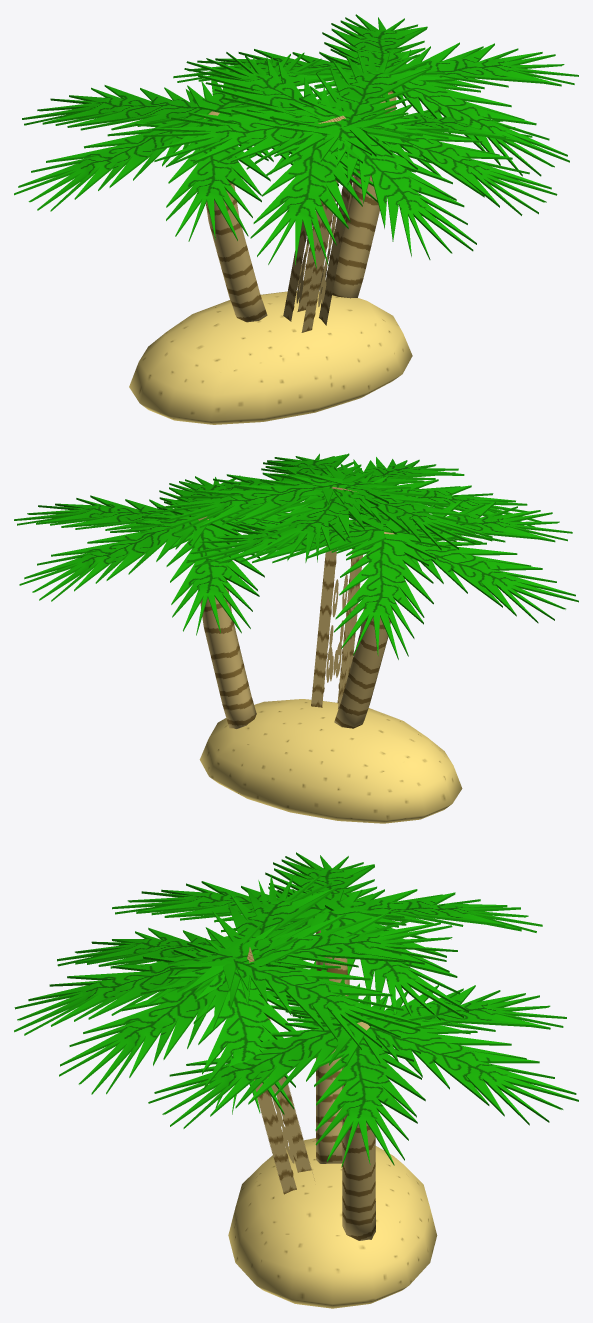
File: PalmTreeIsland2.FBX
3 renders of one model, top to bottom at view 1: azimuth 30°, elevation 25°; view 2: azimuth 150°, elevation 25°; view 3: azimuth 270°, elevation 25°, orthographic. The views are drawn at different scales.
Visible parts, largest first — view 1: Island, Palm Leaf017 (×2), Palm Leaf022, Palm Leaf020, Palm Leaf019, Palm Leaf021, Palm Leaf029, Palm Leaf023, Palm Leaf026, Palm Leaf024, Tree004, Palm Leaf028 (+7 smaller); view 2: Island, Palm Leaf017 (×2), Palm Leaf024, Palm Leaf031, Palm Leaf023, Palm Leaf032, Palm Leaf025, Tree004, Tree006, Palm Leaf019, Palm Leaf026, Palm Leaf028 (+7 smaller); view 3: Island, Palm Leaf017 (×2), Palm Leaf031, Palm Leaf021, Palm Leaf029, Palm Leaf028, Palm Leaf022, Palm Leaf018, Palm Leaf025, Palm Leaf019, Palm Leaf024, Palm Leaf032 (+7 smaller).
Boxes of the visible parts, bbox=[...] form: Island: bbox=[129, 290, 412, 424]; Palm Leaf017 (×2): bbox=[184, 48, 430, 135]; Palm Leaf022: bbox=[320, 125, 476, 259]; Palm Leaf020: bbox=[250, 127, 371, 268]; Palm Leaf019: bbox=[143, 98, 348, 167]; Palm Leaf021: bbox=[350, 112, 557, 215]; Palm Leaf029: bbox=[385, 69, 569, 176]; Palm Leaf023: bbox=[14, 120, 199, 211]; Palm Leaf026: bbox=[162, 116, 270, 241]; Palm Leaf024: bbox=[22, 85, 211, 132]; Tree004: bbox=[283, 115, 353, 332]; Palm Leaf028: bbox=[391, 42, 578, 89]; Island: bbox=[199, 699, 462, 823]; Palm Leaf017 (×2): bbox=[153, 471, 388, 562]; Palm Leaf024: bbox=[334, 534, 435, 659]; Palm Leaf031: bbox=[19, 515, 206, 601]; Palm Leaf023: bbox=[407, 529, 578, 623]; Palm Leaf032: bbox=[166, 520, 264, 635]; Palm Leaf025: bbox=[186, 513, 384, 567]; Tree004: bbox=[311, 487, 362, 708]; Tree006: bbox=[198, 516, 256, 728]; Palm Leaf019: bbox=[322, 483, 492, 550]; Palm Leaf026: bbox=[385, 500, 572, 548]; Palm Leaf028: bbox=[14, 495, 180, 533]; Island: bbox=[228, 1138, 437, 1308]; Palm Leaf017 (×2): bbox=[223, 913, 457, 1049]; Palm Leaf031: bbox=[363, 1014, 578, 1125]; Palm Leaf021: bbox=[59, 959, 251, 1094]; Palm Leaf029: bbox=[148, 1014, 366, 1128]; Palm Leaf028: bbox=[313, 1038, 425, 1167]; Palm Leaf022: bbox=[14, 942, 233, 1035]; Palm Leaf018: bbox=[182, 965, 300, 1114]; Palm Leaf025: bbox=[310, 907, 468, 1020]; Palm Leaf019: bbox=[194, 874, 335, 966]; Palm Leaf024: bbox=[325, 889, 542, 932]; Palm Leaf032: bbox=[367, 985, 566, 1034].
Size of the model in its own units: 205 by 104 by 166.
